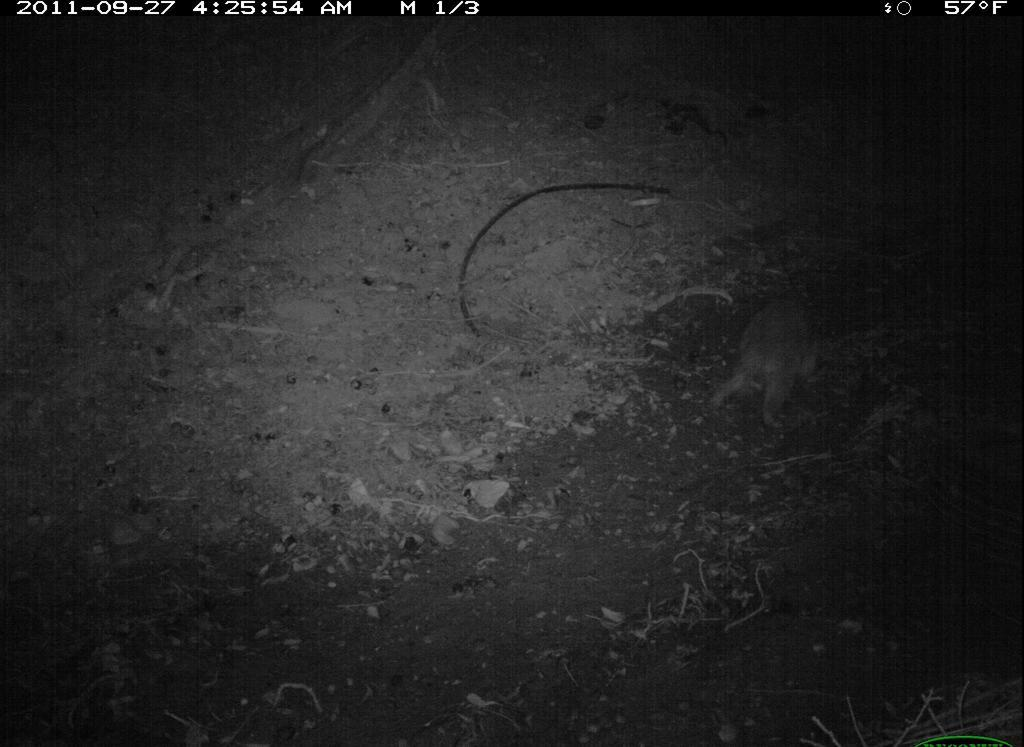raccoon: (693, 274, 843, 432)
